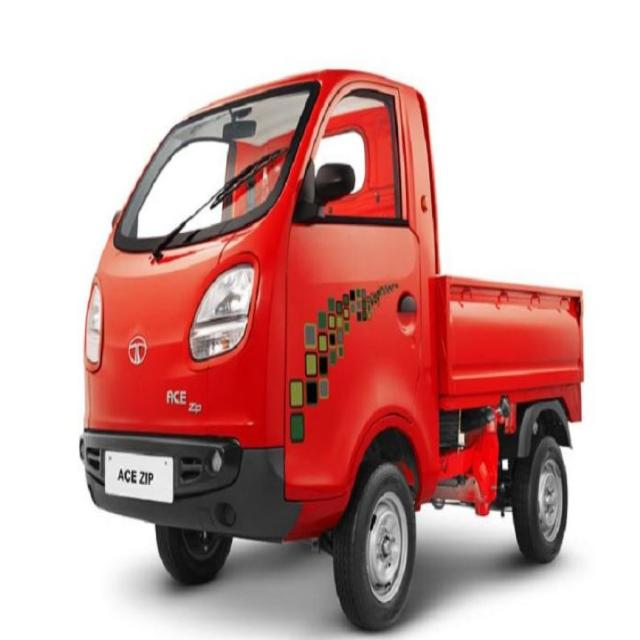truck: (80, 72, 584, 629)
